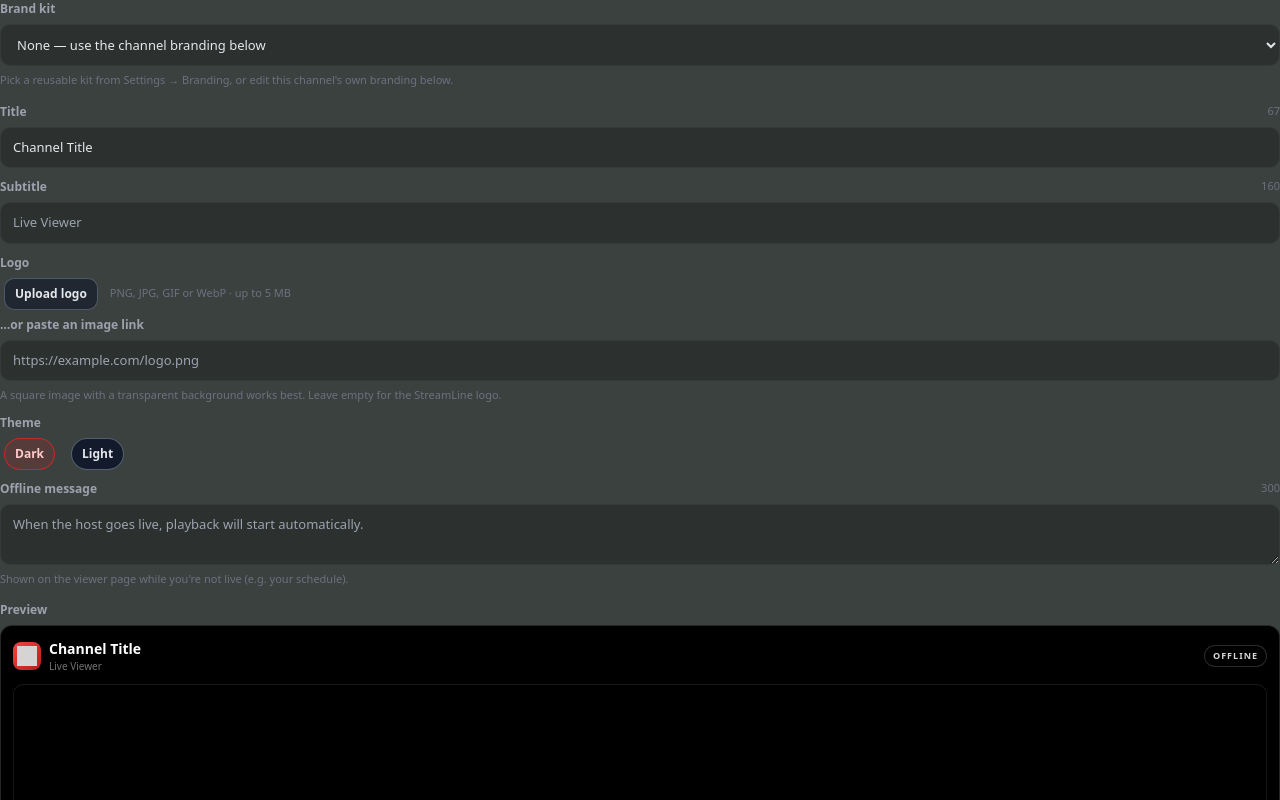
Test: HlsBrandingEditor brand kit picker › assigns a kit to the channel room and previews it
This screenshot has width=1280, height=800.
Check: the text with test id "preview-title" reads "Channel Title", box [49, 639, 141, 658]
Select "Main show" in the dropdown with test id "channel-brand-kit" at point(640, 45), box [0, 24, 1279, 66]
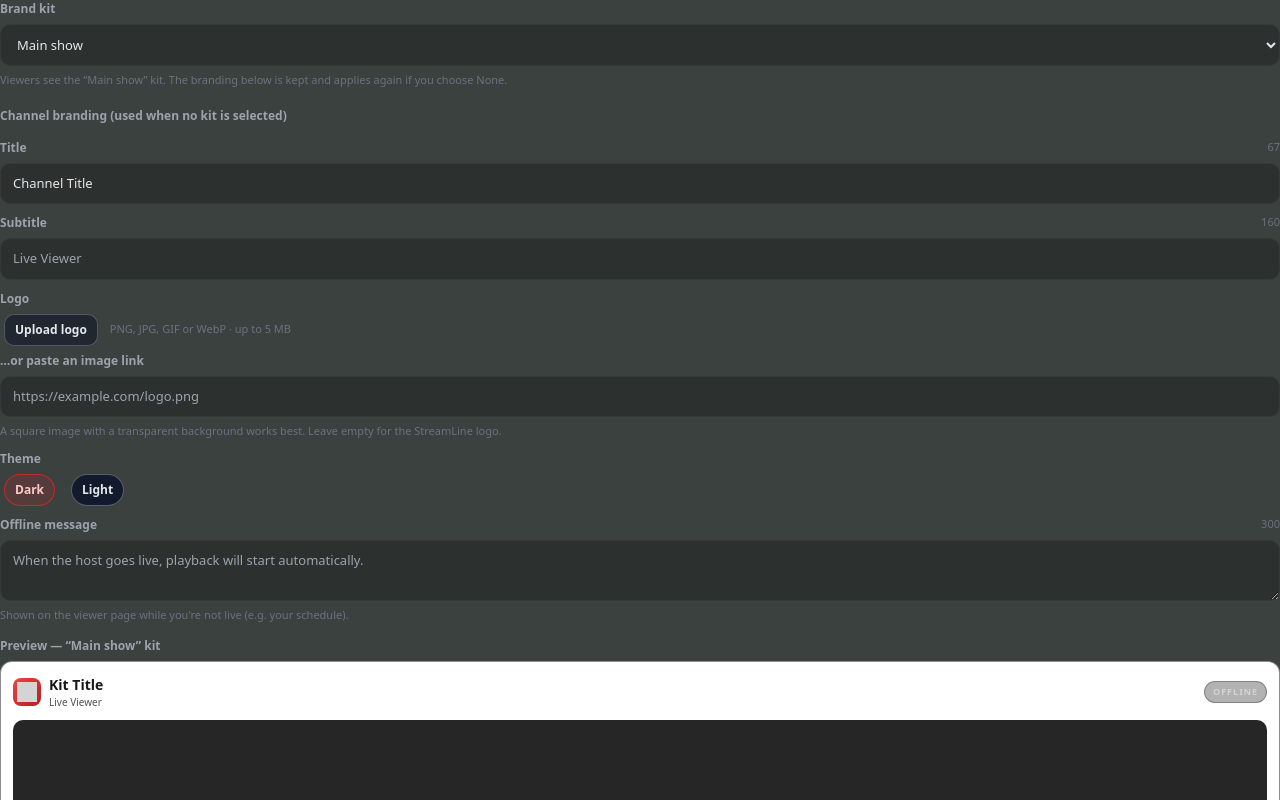
Check: the text with test id "preview-title" reads "Kit Title", box [49, 675, 103, 694]
